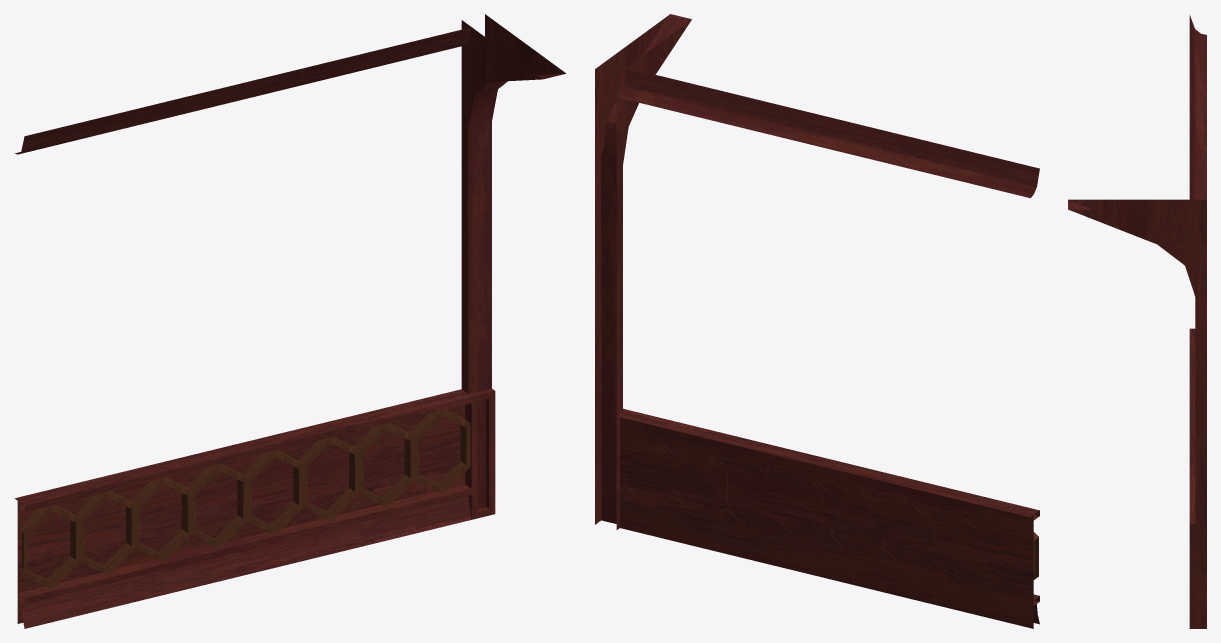
Rendered from SM_Wall_L3_02.fbx.
3 renders of one model, left to right at view 1: azimuth 30°, elevation 25°; view 2: azimuth 150°, elevation 25°; view 3: azimuth 270°, elevation 25°, orthographic. The views are drawn at different scales.
Parts seen in each view (by area): view 1: SM_Wall_L3_02; view 2: SM_Wall_L3_02; view 3: SM_Wall_L3_02.
Boxes of the visible parts, bbox=[...] form: SM_Wall_L3_02: bbox=[14, 14, 565, 628]; SM_Wall_L3_02: bbox=[595, 14, 1039, 628]; SM_Wall_L3_02: bbox=[1068, 15, 1206, 628].
Size of the model in its own units: 400 by 400 by 120.
